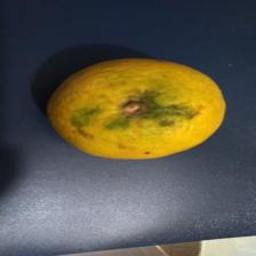Orange Semifresh: (38, 48, 250, 178)
